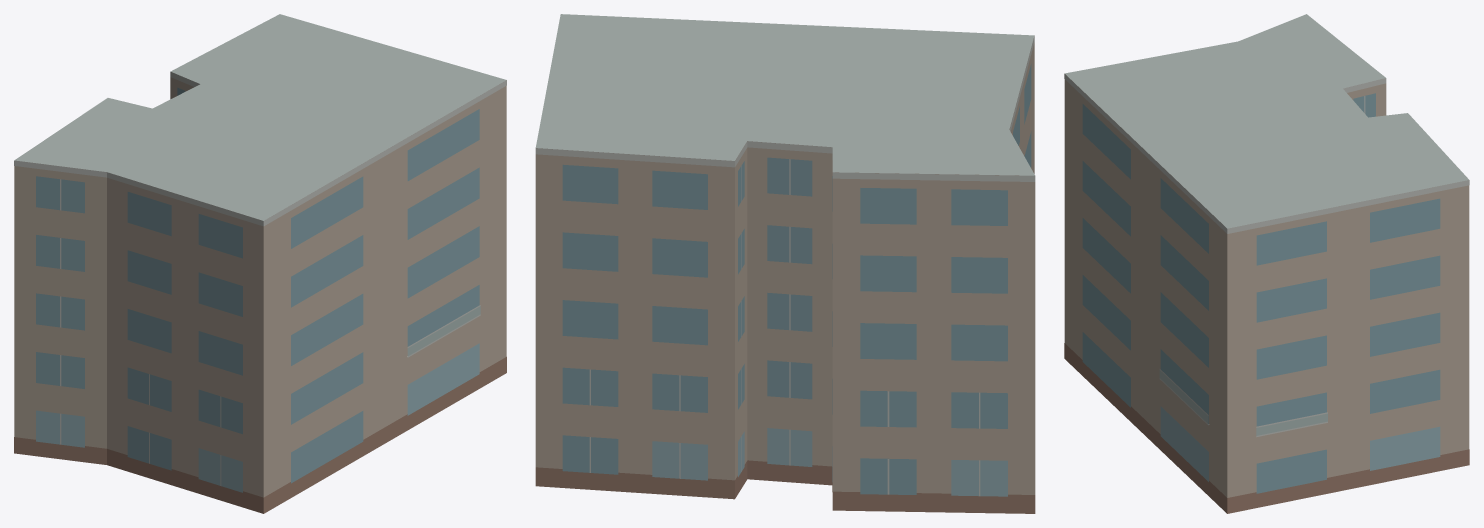
File: survey-upis-32475102.glb
The picture shows the model from 3 angles, left to right: view 1: azimuth 30°, elevation 25°; view 2: azimuth 150°, elevation 25°; view 3: azimuth 270°, elevation 25°; orthographic projection. The views are drawn at different scales.
Visible parts, largest first — view 1: survey-upis-32475102.tmp; view 2: survey-upis-32475102.tmp; view 3: survey-upis-32475102.tmp.
Part boxes in pixels (x1,y1,x2,y2): survey-upis-32475102.tmp: (14, 14, 506, 513); survey-upis-32475102.tmp: (535, 14, 1035, 513); survey-upis-32475102.tmp: (1064, 14, 1469, 513).
Size of the model in its own units: 21 by 13 by 16.74.
